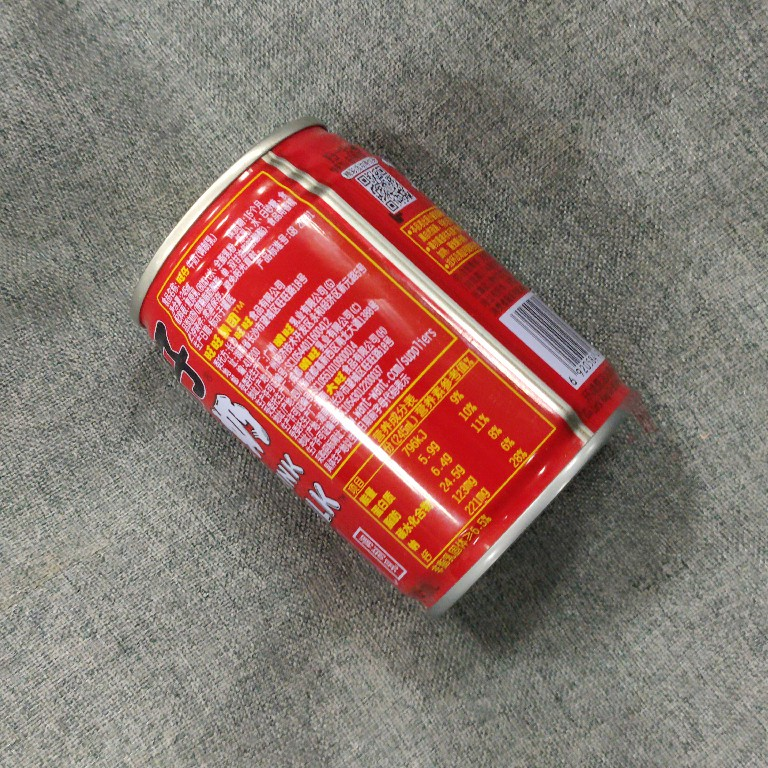can: (128, 116, 646, 622)
